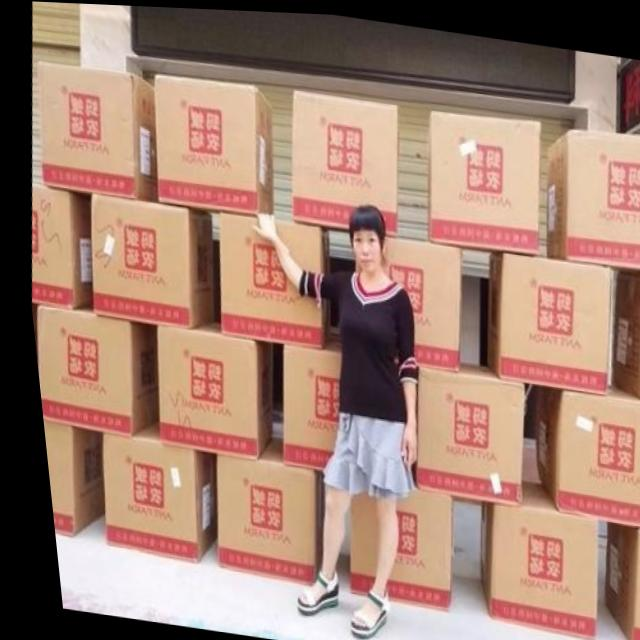box: (469, 475, 585, 631), (481, 251, 609, 391), (153, 73, 273, 212), (424, 106, 539, 249), (527, 379, 640, 524), (288, 85, 395, 235), (38, 64, 154, 202), (148, 322, 266, 456), (88, 195, 210, 324), (30, 305, 151, 435), (204, 434, 309, 581), (407, 359, 516, 499), (92, 433, 205, 563), (212, 209, 321, 342), (541, 123, 640, 264), (376, 233, 454, 363), (373, 484, 440, 605), (272, 337, 334, 467), (25, 184, 87, 309), (34, 421, 93, 538), (590, 516, 640, 640), (603, 264, 640, 393), (251, 210, 325, 271), (336, 490, 369, 590)
